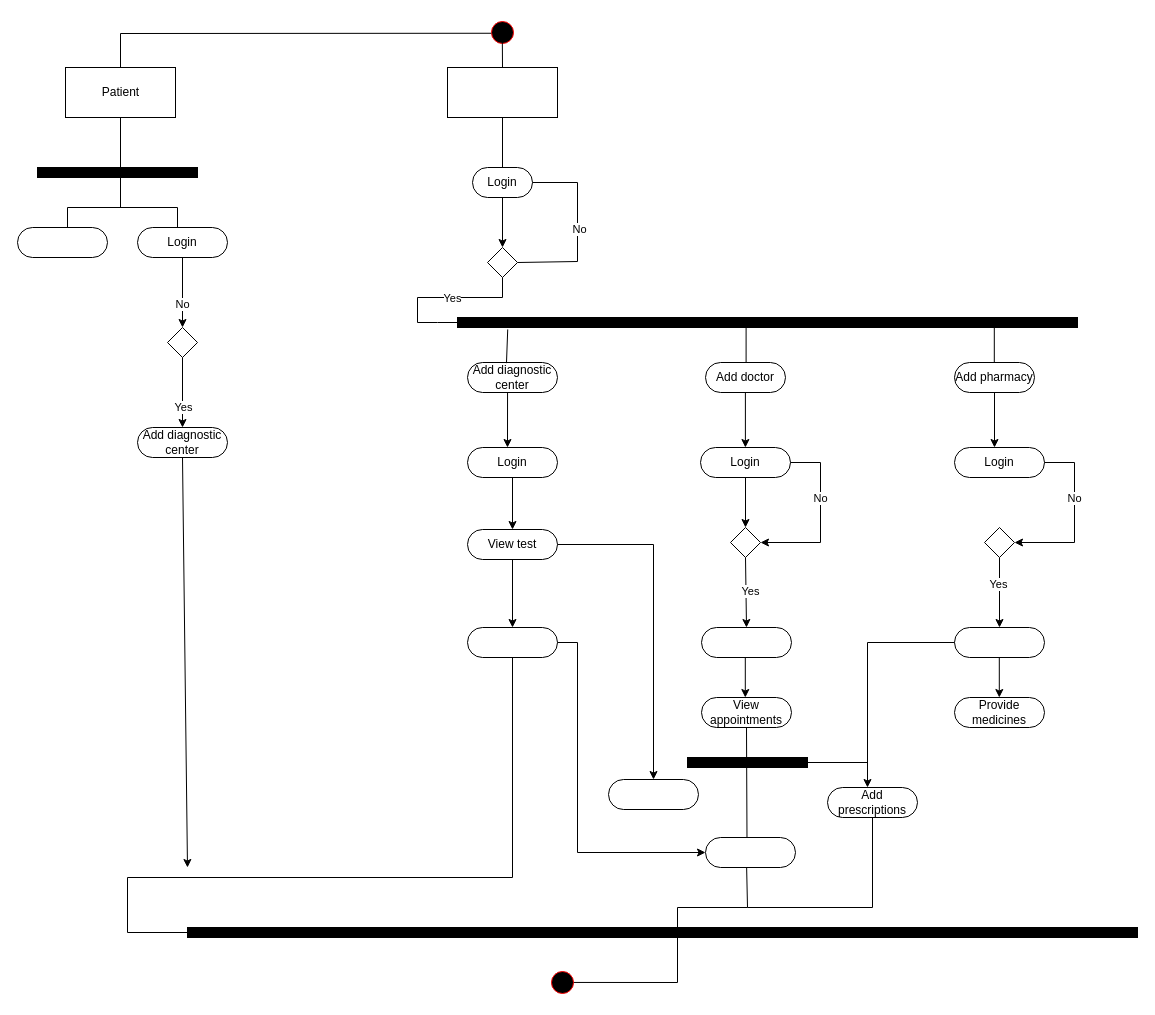
This 1155x1015 diagram has some shape labels left out. The shapes that lost their labels are listed below. From the top down, each one's centre as x and y in pixels, then its label:
At pixel 502 92: "Admin".
At pixel 62 242: "Register".
At pixel 512 642: "Add test result".
At pixel 746 642: "View patients".
At pixel 999 642: "View prescriptions".
At pixel 653 794: "Send to test center".
At pixel 750 852: "View test results".
